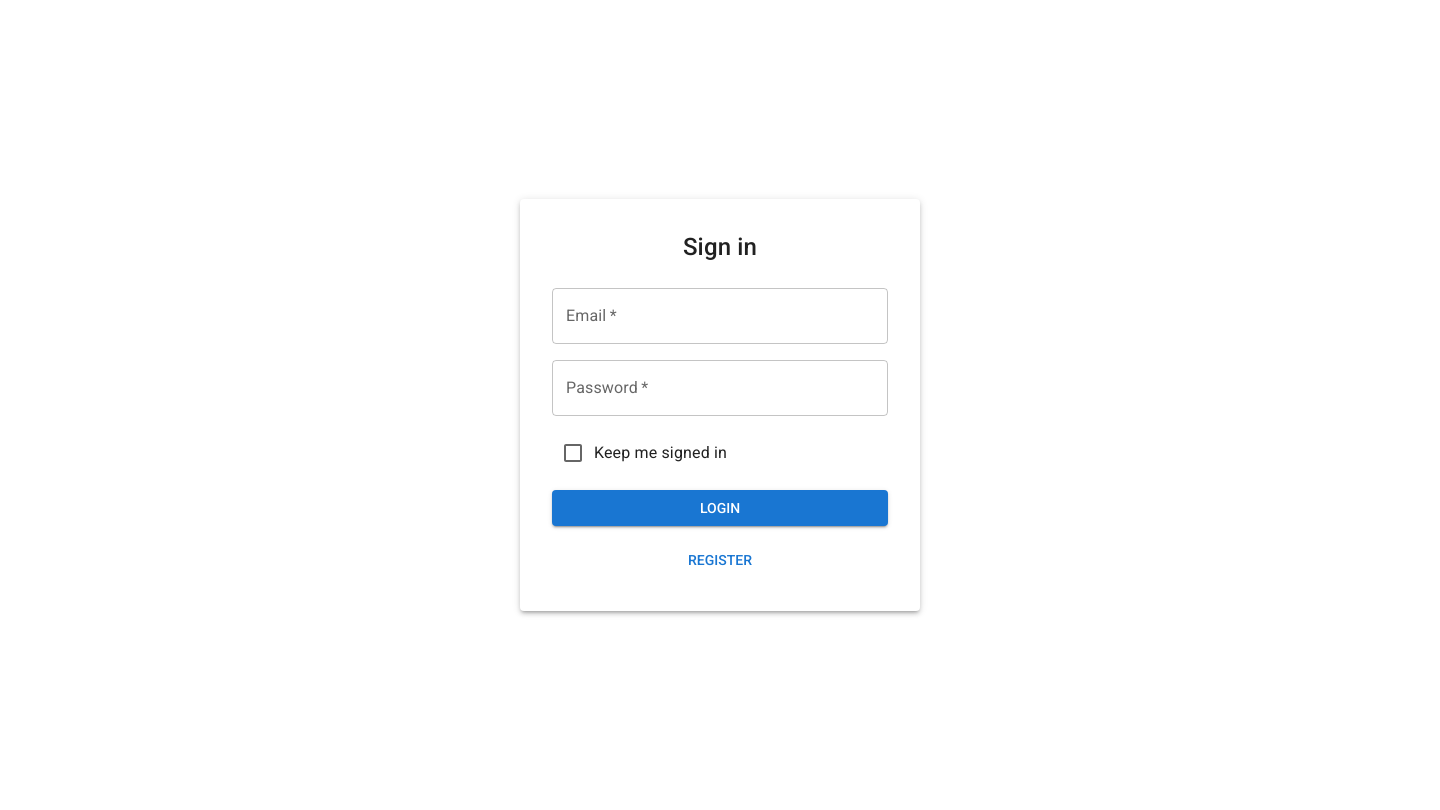
Test: transitions to ChatWindow after successful login
The width and height of the screenshot is (1440, 810).
Type "user@test.com" into the field labelled "Email *" at (720, 316), box [552,288,888,344]
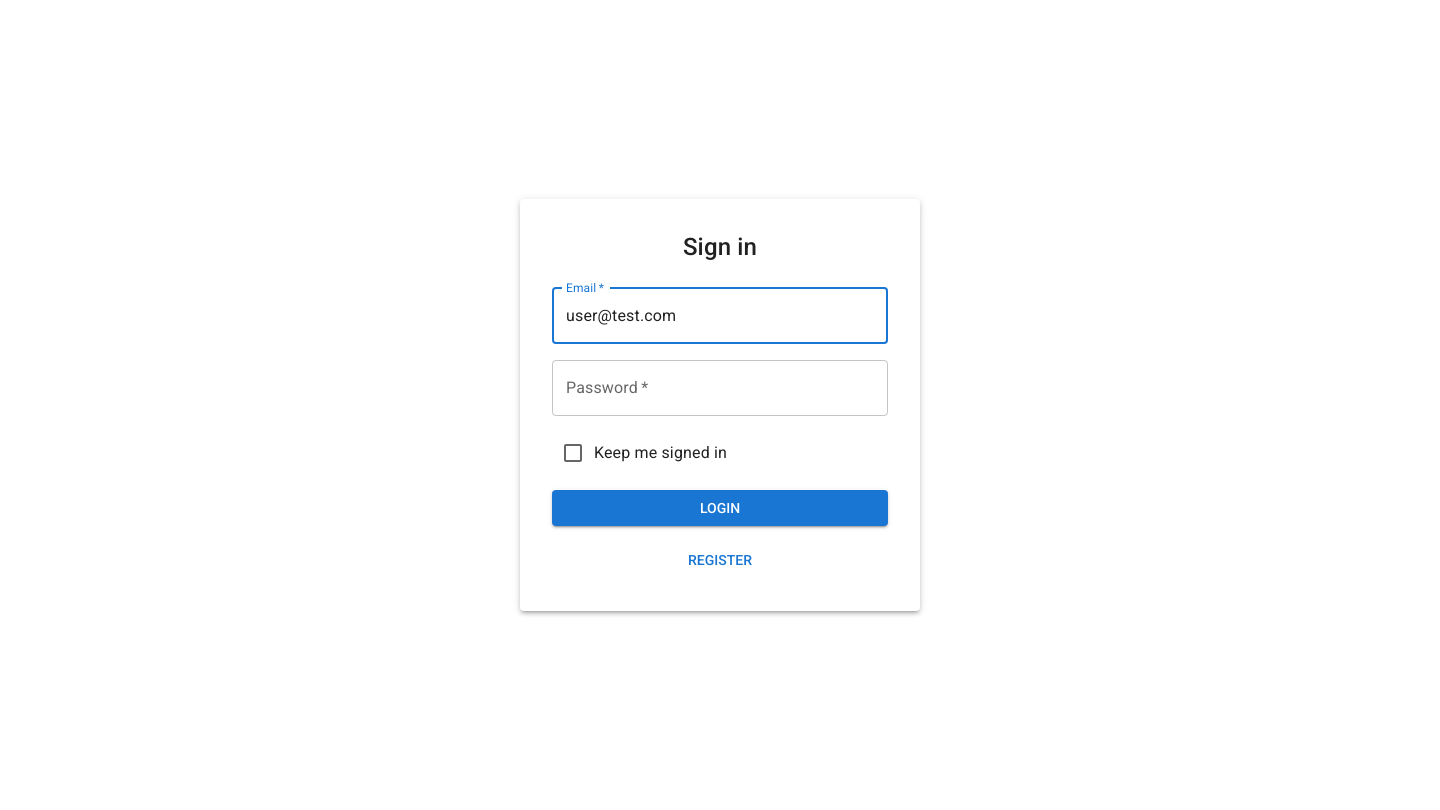
Type "Password123" into the password field labelled "Password *" at (720, 388), box [552,360,888,416]
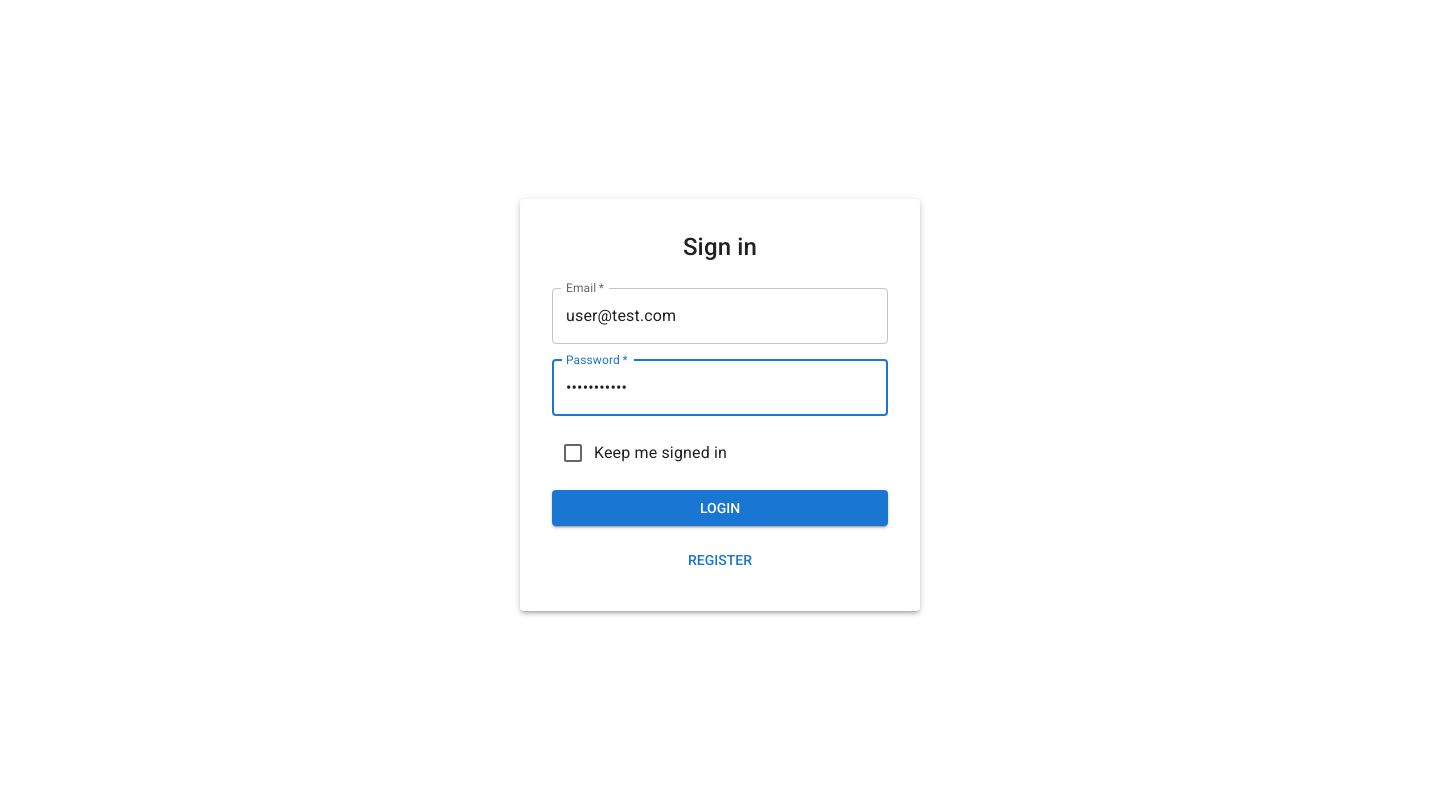
Click the button "Login" at (720, 508), box [552,490,888,526]
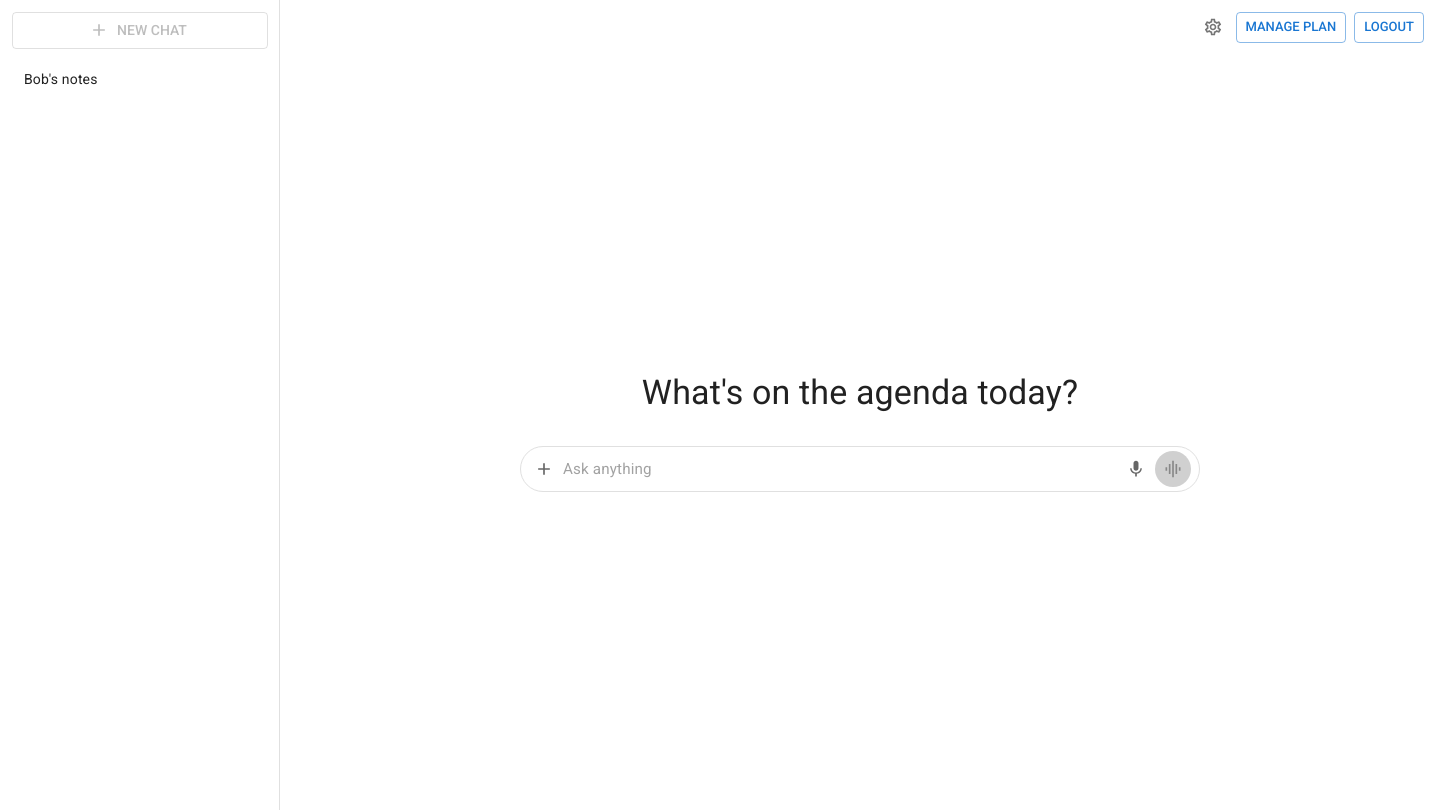
Result: the field is shown at [563,454,1121,485]
